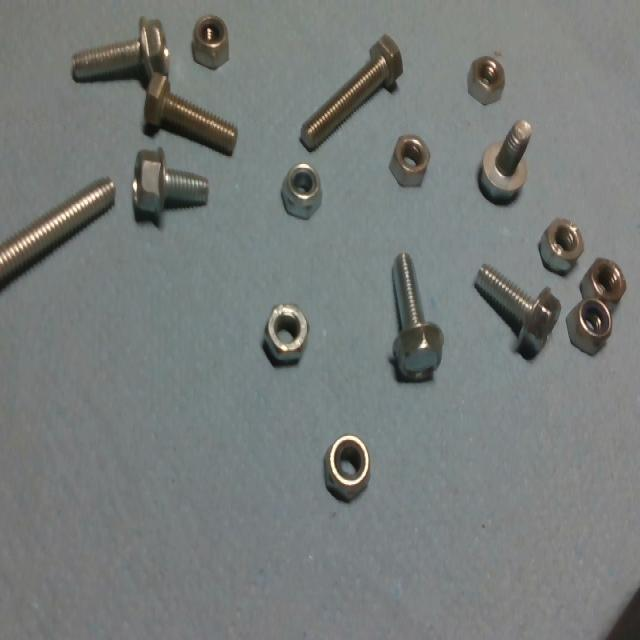Bolt: (0, 177, 115, 292), (300, 35, 402, 149), (472, 265, 560, 360), (144, 73, 235, 152), (390, 253, 443, 380), (72, 19, 167, 83), (133, 148, 207, 228), (477, 121, 532, 203)
Nut: (259, 300, 311, 371), (323, 435, 369, 500), (565, 296, 612, 356), (538, 219, 583, 276), (280, 163, 321, 221), (580, 259, 625, 309), (189, 16, 229, 71), (389, 136, 429, 188), (468, 56, 504, 107)
